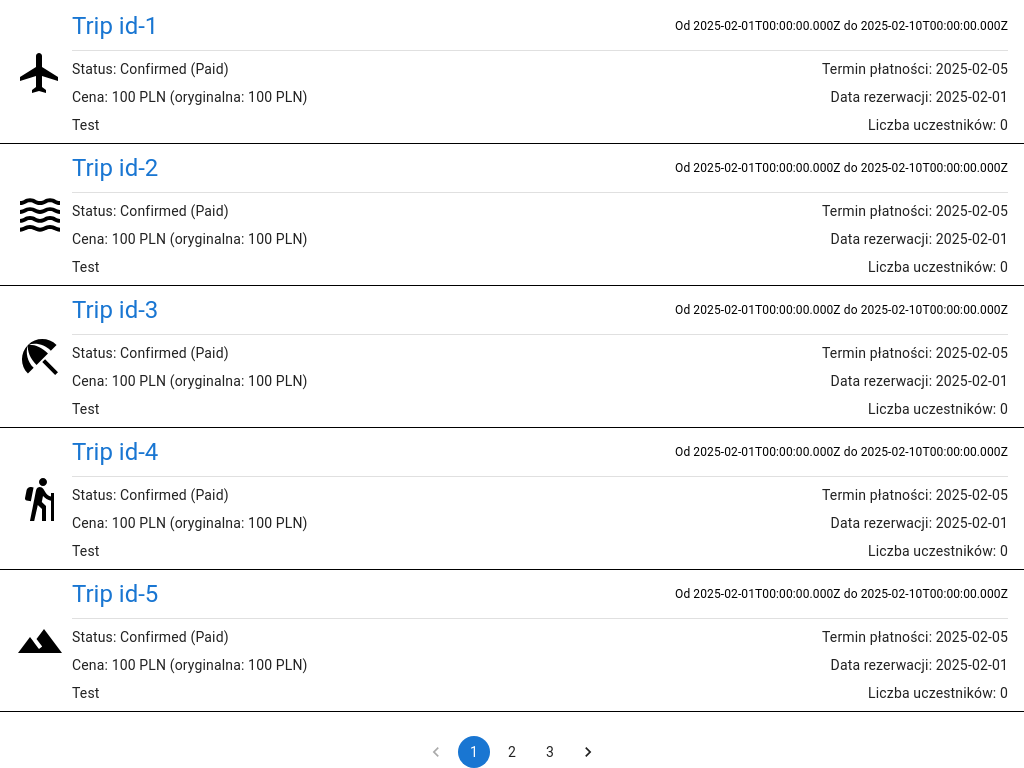
Test: BookingsList › changes page when pagination is clicked
What coordinates should you click on to do the following:
click the button "2"
I would click on:
 (512, 752)
Its box is left=496, top=736, right=528, bottom=767.
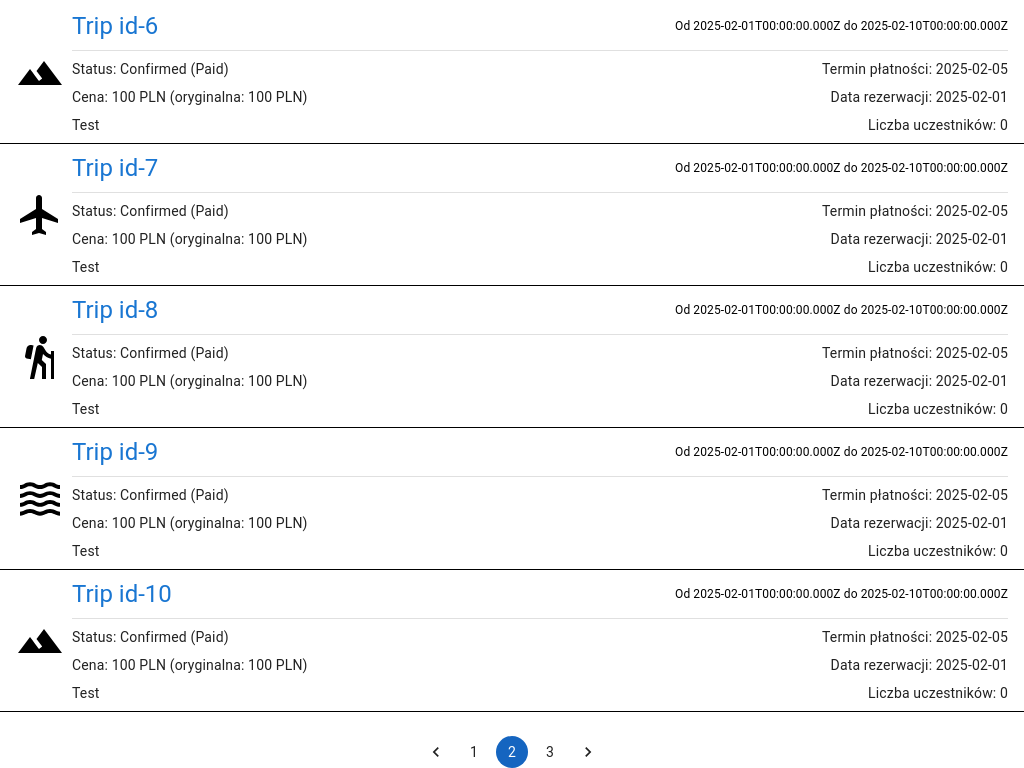
Check: the heading "Trip id-6" is shown, box left=72, top=10, right=158, bottom=42
